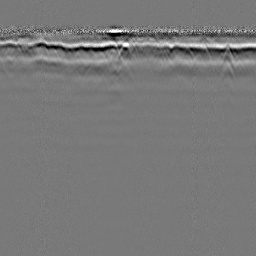cavity: (115, 41, 133, 60)
